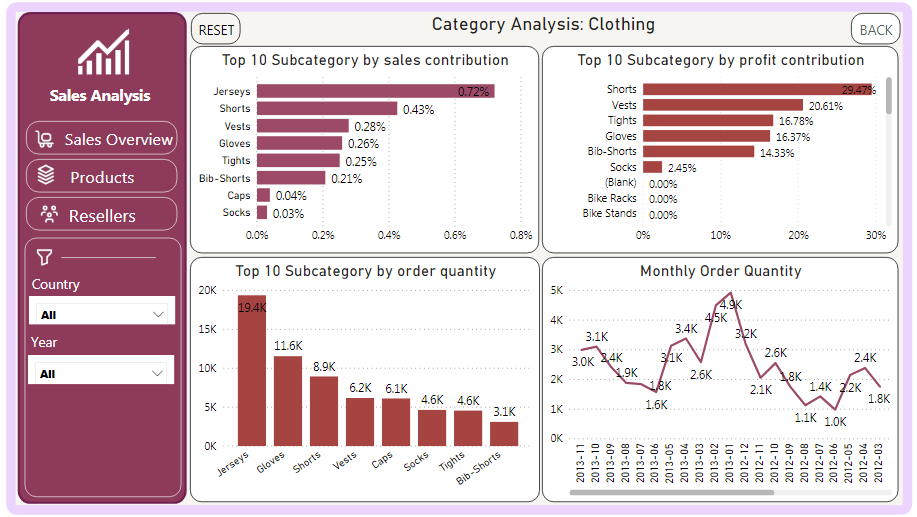

The page's visual inventory and layout, read from the dashboard file:
{"tool":"powerbi","page":{"name":"SubcategoryDetails","canvas":[1280,720],"ordinal":2},"visuals":[{"type":"basicShape","title":"Shape","box":[8.7,1.4,1270.8,718.6],"z":0},{"type":"basicShape","title":"Shape","box":[34.7,14.5,237.1,689.6],"z":1000},{"type":"actionButton","box":[47.7,172,208.2,46.3],"z":2000},{"type":"actionButton","box":[47.7,224.1,208.2,46.3],"z":3000},{"type":"actionButton","box":[47.7,276.1,208.2,46.3],"z":4000},{"type":"basicShape","box":[43.4,328.2,219.8,364.3],"z":5000},{"type":"slicer","fields":{"Values":["DimSalesTerritory.کشور"]},"box":[52.2,411.9,201,39],"z":7000},{"type":"slicer","fields":{"Values":["DimDate.Date.Variation.Date Hierarchy.Year"]},"box":[50.9,493.7,201,40.5],"z":9000},{"type":"textbox","box":[49.4,457.5,138.8,34.7],"z":12000},{"type":"textbox","box":[50.7,378.7,138.8,34.7],"z":13000},{"type":"basicShape","box":[86.7,339.8,150.4,40.5],"z":14000},{"type":"textbox","box":[75.2,117.1,161.9,39],"z":15000},{"type":"image","box":[49.2,339.8,47.7,37.6],"z":16000},{"type":"image","box":[95.4,37.6,118.6,79.5],"z":17000},{"type":"image","box":[52,225.5,46.3,40.5],"z":18000},{"type":"image","box":[52,280.5,56.4,37.6],"z":19000},{"type":"image","box":[53.5,177.8,40.5,37.6],"z":20000},{"type":"actionButton","box":[1182.7,23,68,43],"z":21000},{"type":"card","fields":{"Values":["Measurs.Title_Drillthrough"]},"box":[391.8,11.6,735.9,53.5],"z":22000},{"type":"clusteredBarChart","title":"Top 10 Subcategory by profit contribution","fields":{"Category":["DimProductSubcategory.EnglishProductSubcategoryName"],"Y":["Measurs.Profit Contribution"]},"box":[757.6,69.4,490.1,284.8],"z":23000},{"type":"lineChart","title":"Monthly Order Quantity","fields":{"Category":["DimDate.Year_Month"],"Y":["Measurs.Order Quantity"]},"box":[757.6,358.6,490.1,336.9],"z":24000},{"type":"columnChart","title":"Top 10 Subcategory by order quantity","fields":{"Category":["DimProductSubcategory.EnglishProductSubcategoryName"],"Y":["Measurs.Order Quantity"]},"box":[273.3,358.6,481.4,336.9],"z":25000},{"type":"barChart","title":"Top 10 Subcategory by sales contribution","fields":{"Category":["DimProductSubcategory.EnglishProductSubcategoryName"],"Y":["Measurs.Product Sales Contribution %"]},"box":[273.3,69.4,480,284.8],"z":26000},{"type":"actionButton","box":[274.7,23.1,68,43.4],"z":27000}]}

Visuals, with their boxes in screenshot pixels (x1, y1, x2, y2), scaled from the page's 1280x720 canvas onto the 917x517 screenshot:
"Shape" basicShape: Rect(6, 1, 916, 516)
"Shape" basicShape: Rect(25, 10, 195, 506)
actionButton: Rect(34, 124, 183, 157)
actionButton: Rect(34, 161, 183, 194)
actionButton: Rect(34, 198, 183, 232)
basicShape: Rect(31, 236, 189, 497)
slicer - DimSalesTerritory.کشور: Rect(37, 296, 181, 324)
slicer - DimDate.Date.Variation.Date Hierarchy.Year: Rect(36, 355, 180, 384)
textbox: Rect(35, 329, 135, 353)
textbox: Rect(36, 272, 136, 297)
basicShape: Rect(62, 244, 170, 273)
textbox: Rect(54, 84, 170, 112)
image: Rect(35, 244, 69, 271)
image: Rect(68, 27, 153, 84)
image: Rect(37, 162, 70, 191)
image: Rect(37, 201, 78, 228)
image: Rect(38, 128, 67, 155)
actionButton: Rect(847, 17, 896, 47)
card - Measurs.Title_Drillthrough: Rect(281, 8, 808, 47)
"Top 10 Subcategory by profit contribution" clusteredBarChart: Rect(543, 50, 894, 254)
"Monthly Order Quantity" lineChart: Rect(543, 257, 894, 499)
"Top 10 Subcategory by order quantity" columnChart: Rect(196, 257, 541, 499)
"Top 10 Subcategory by sales contribution" barChart: Rect(196, 50, 540, 254)
actionButton: Rect(197, 17, 246, 48)
